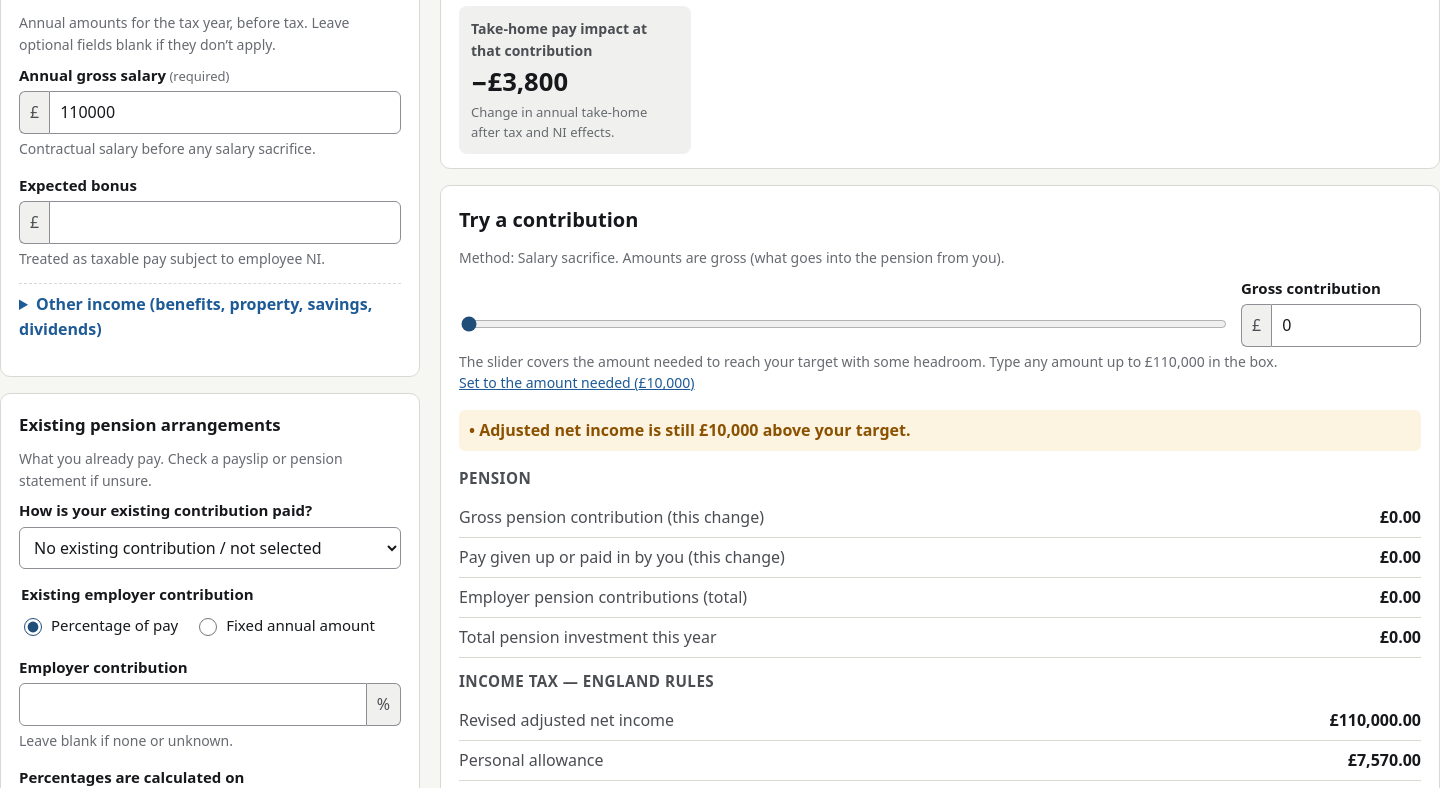
Test: calculator UI › "set to the amount needed" button fills the contribution
The width and height of the screenshot is (1440, 788).
(page scrolled)
Step 1. Click the button "Set to the amount needed (£10,000)" → (577, 383), box [459,372,694,394]
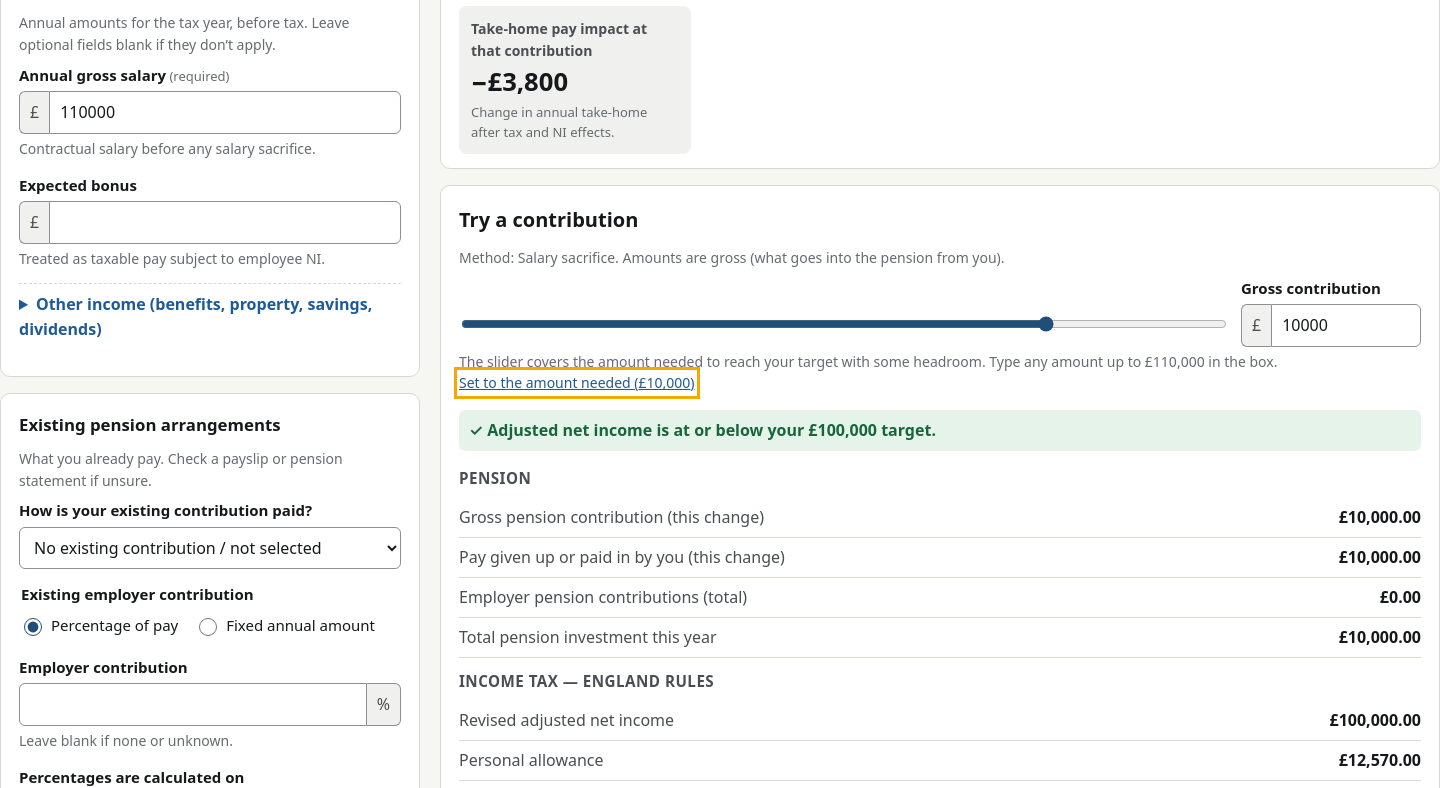
Now the field labelled "Gross contribution" holds "10000", box [1271,304,1421,347]
